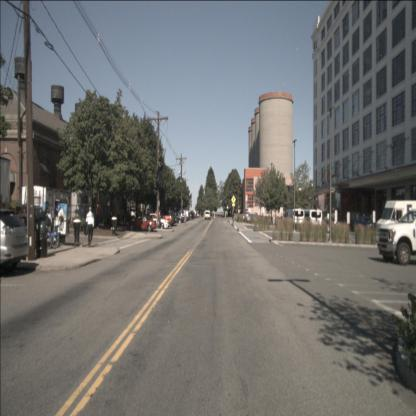human-pedestrian-adult: (83, 206, 94, 248), (231, 209, 234, 224)
vehicle-car: (0, 208, 29, 278), (376, 200, 415, 252), (126, 215, 156, 232), (141, 213, 169, 230), (301, 208, 323, 228), (286, 208, 305, 227), (242, 212, 263, 223), (322, 218, 336, 233), (168, 212, 184, 223), (205, 210, 210, 220)
vehicle-motorcycle: (29, 218, 52, 248), (38, 219, 60, 249)
vehicle-truck: (376, 209, 416, 266), (146, 210, 174, 226), (350, 216, 377, 232)
